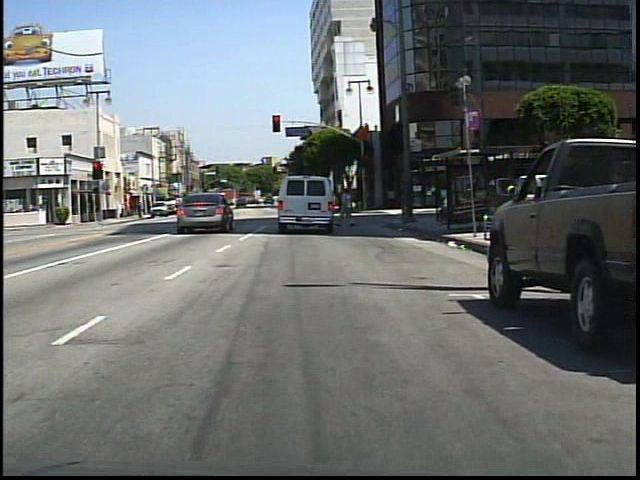person: (335, 182, 357, 228), (194, 192, 208, 218)
